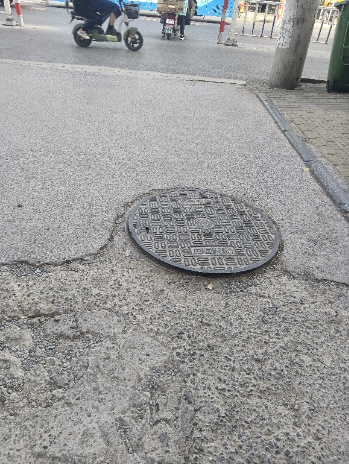well: (125, 187, 282, 273)
